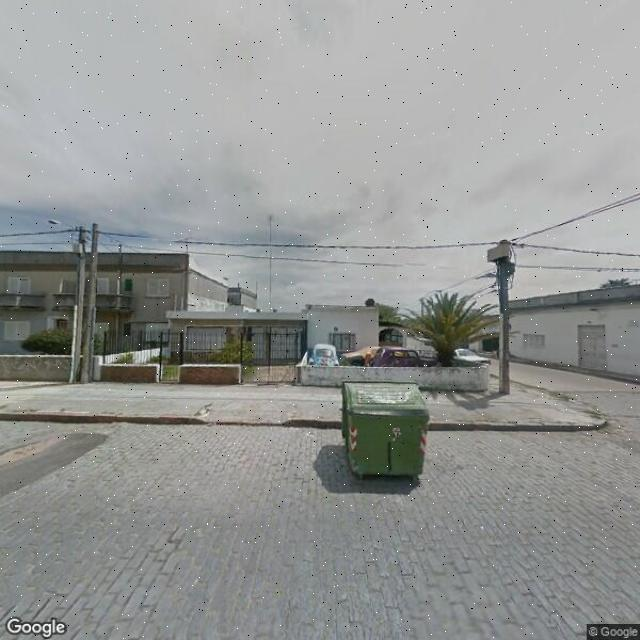garbage container: (332, 372, 442, 500)
